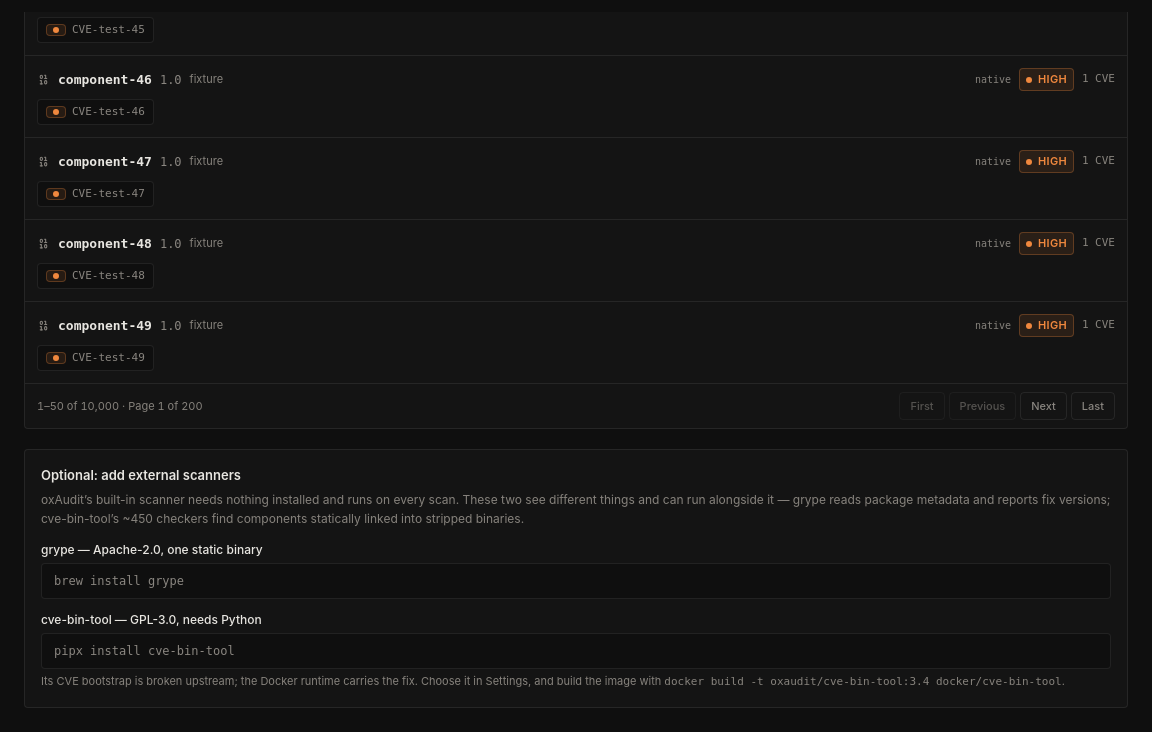
Test: large result pages › bounds 10,000 binary components and resets the last page after a severity filter
This screenshot has width=1152, height=732.
(page scrolled)
Click the button named "Last page of binary components".
click(1093, 406)  # box left=1071, top=392, right=1115, bottom=420
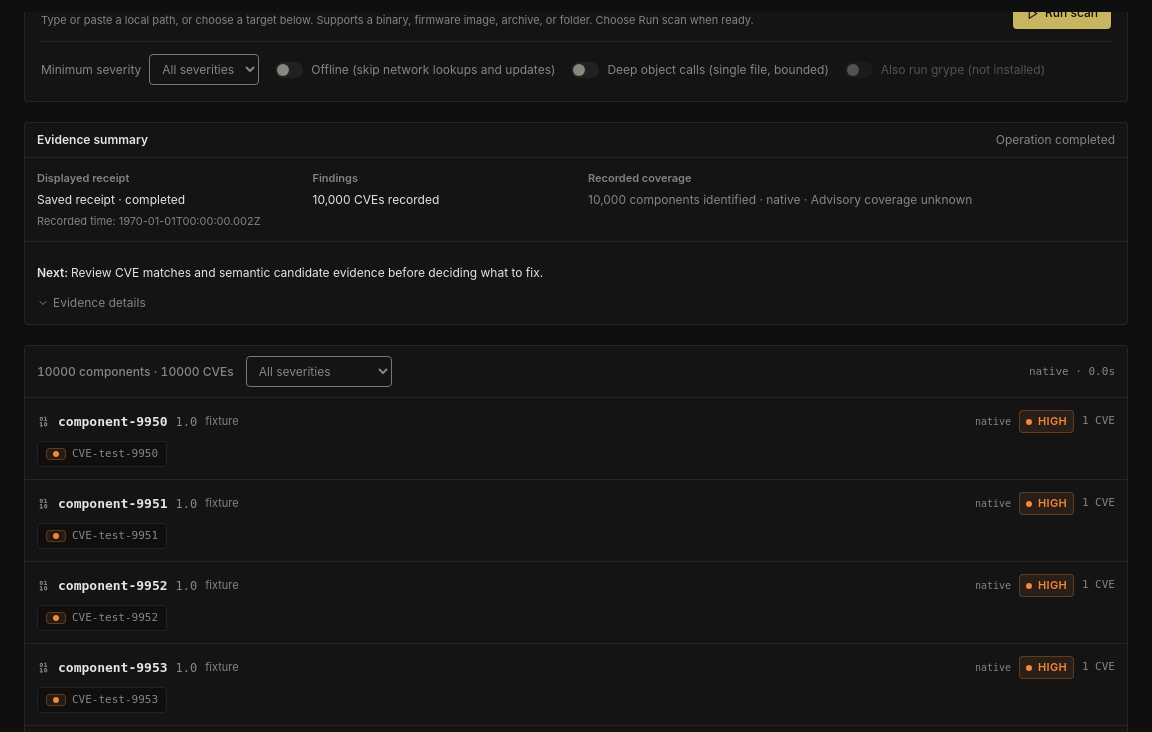
Select "critical and above" in the dropdown named "Minimum severity shown" at {"x": 319, "y": 372}, box left=246, top=356, right=392, bottom=387
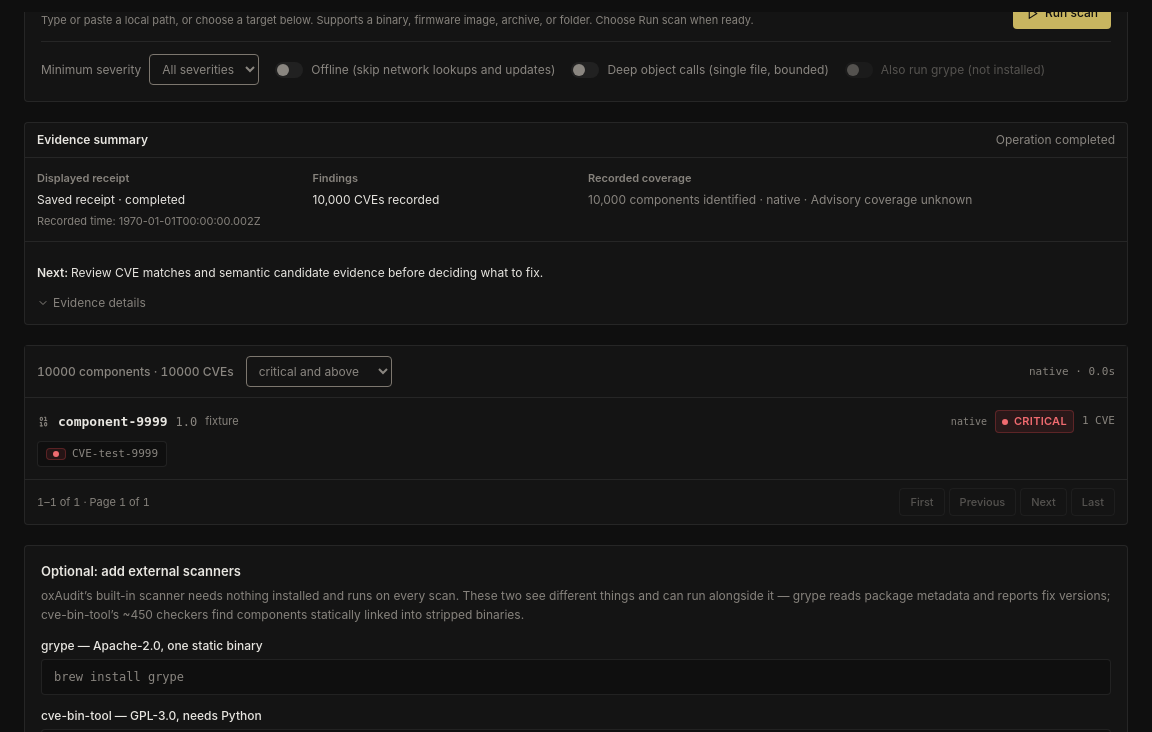
Check: the text "component-9999" is shown, box left=58, top=412, right=168, bottom=431
Check: the button named "Next page of binary components" is disabled, box left=1020, top=488, right=1067, bottom=516
